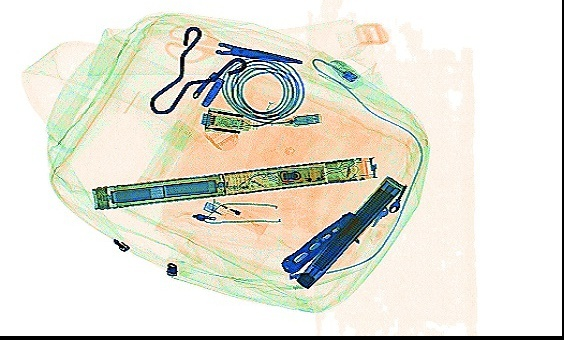knife: (278, 210, 361, 274)
scissors: (162, 21, 303, 65)
slingshot: (147, 24, 248, 115)
zippooil: (202, 195, 270, 237)
